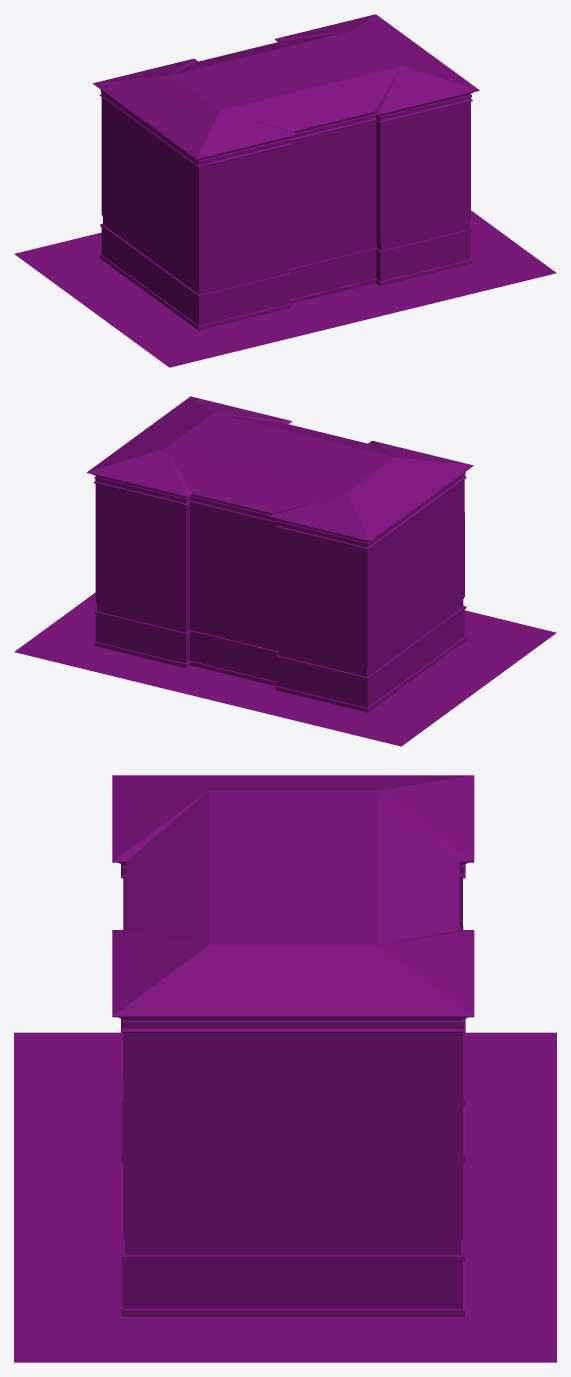
The model's file is ModernStreetArt.fbx.
3 views of the same model, one above another, from view 1: azimuth 30°, elevation 25°; view 2: azimuth 150°, elevation 25°; view 3: azimuth 270°, elevation 25° (orthographic). The views are drawn at different scales.
Visible parts, largest first — view 1: Line001; view 2: Line001; view 3: Line001.
Boxes of the visible parts, left/top/right/bottom form: Line001: left=14, top=14, right=556, bottom=367; Line001: left=14, top=396, right=556, bottom=746; Line001: left=14, top=775, right=556, bottom=1362.
Bounding box in the file's own units: 45.04 × 21.15 × 31.32.
